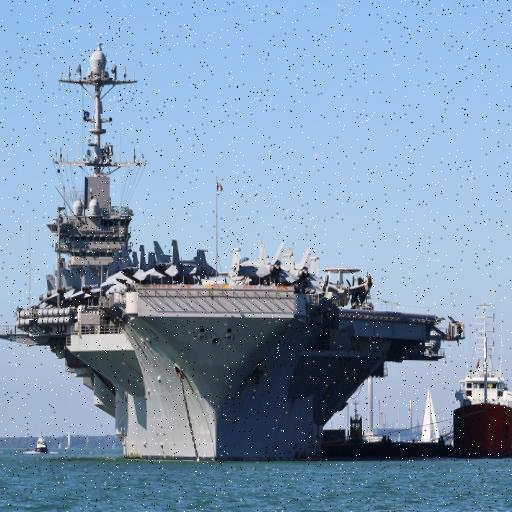Portanaves: (1, 38, 472, 467)
